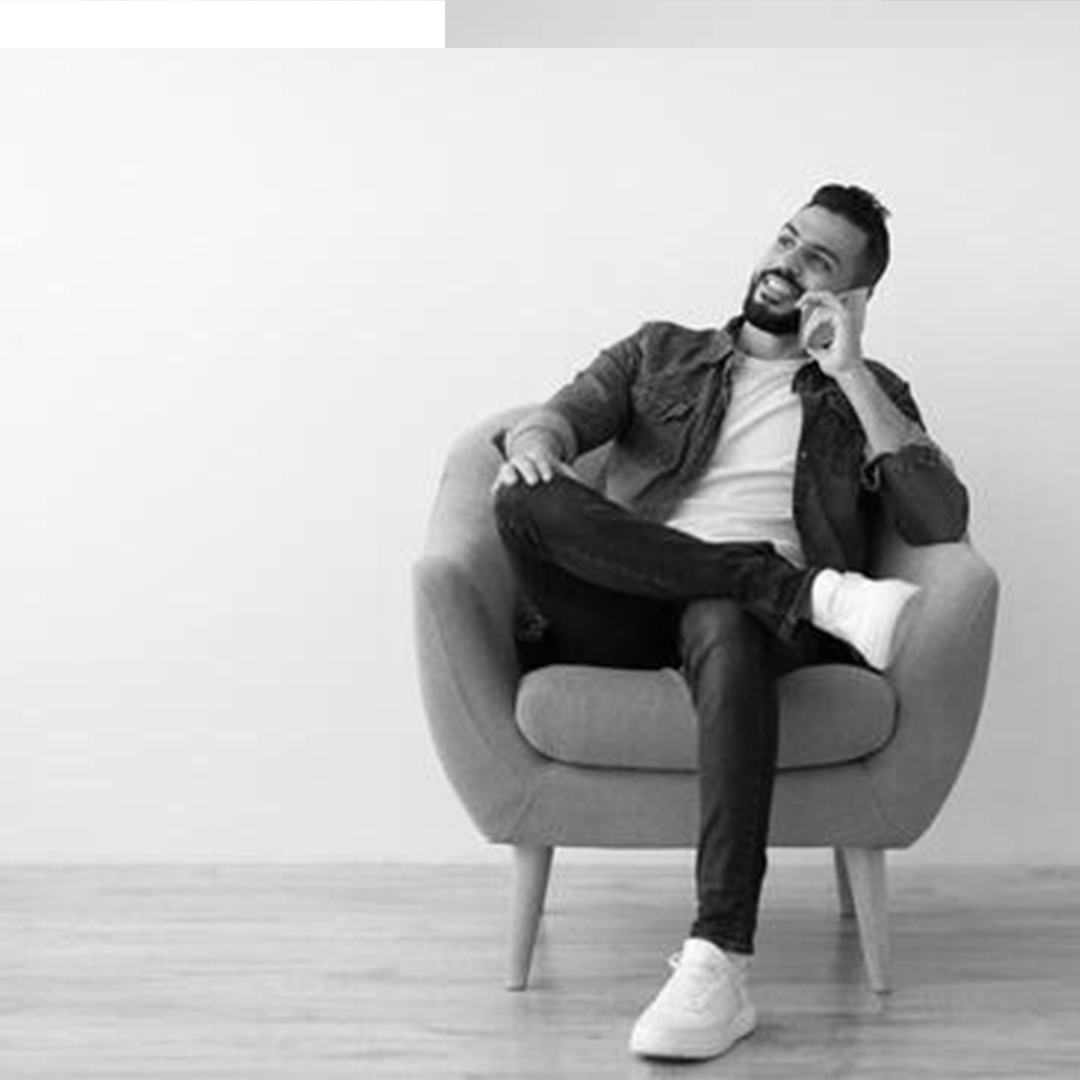distracted: (567, 125, 930, 626)
